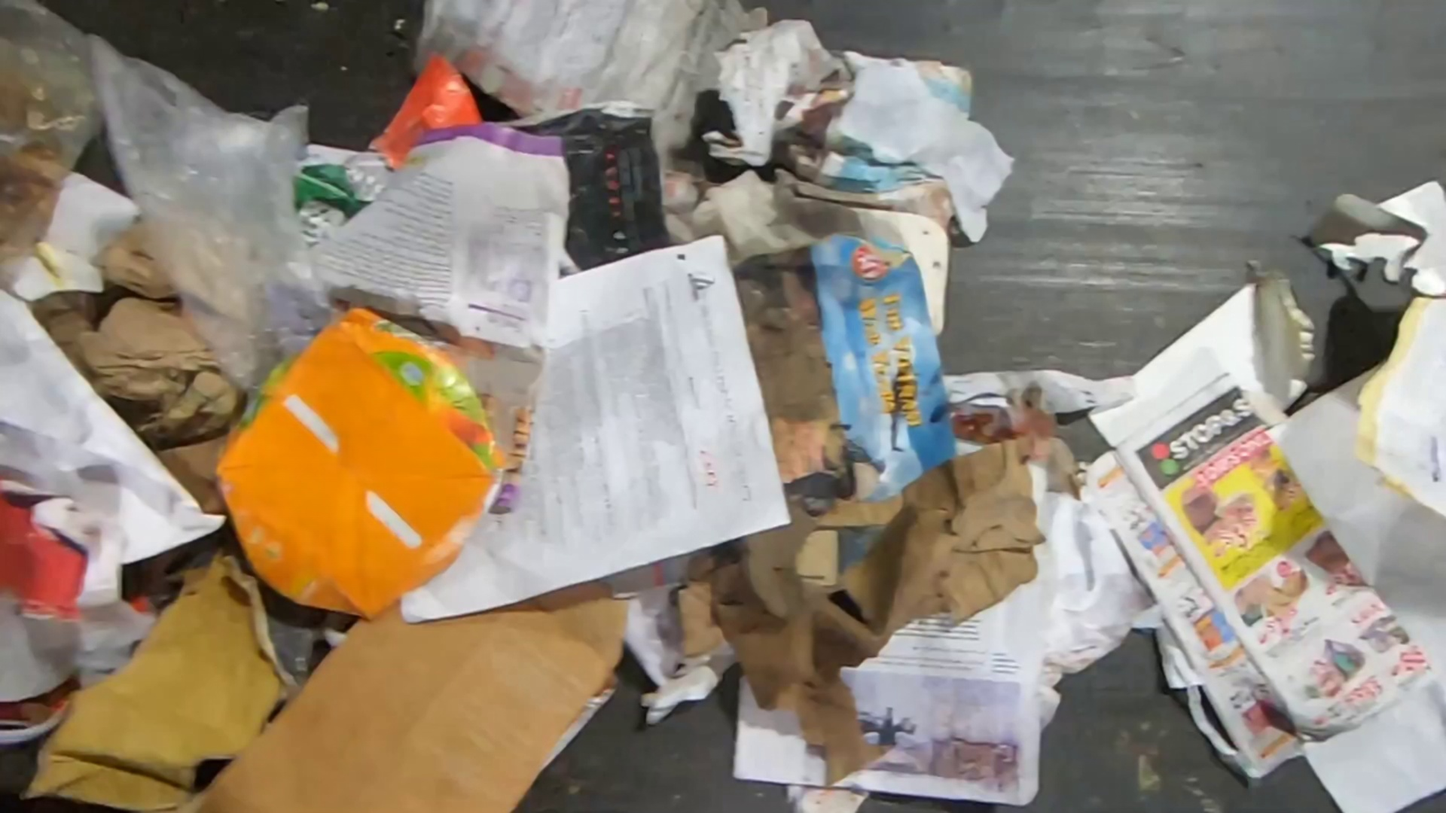cardboard: (172, 576, 633, 813), (209, 301, 507, 623), (15, 545, 300, 813), (31, 221, 248, 515), (1298, 179, 1446, 315), (360, 46, 487, 177), (738, 499, 845, 623)
plastic: (92, 34, 341, 400), (0, 0, 104, 292)
